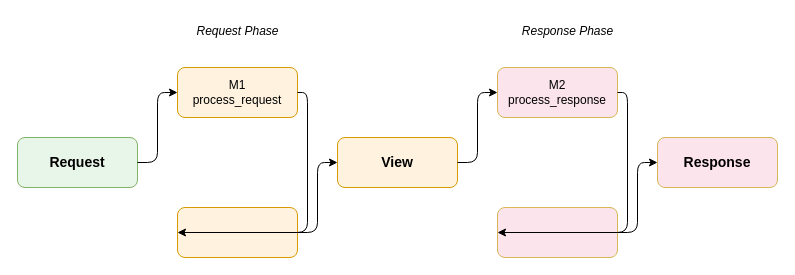
The diagram is 795 pixels wide and 275 high, and some of its shapes have lost their labels. Each missing label, with the box of its shape:
M1 process_response: (496, 206, 618, 258)
M2 process_request: (176, 206, 298, 258)
